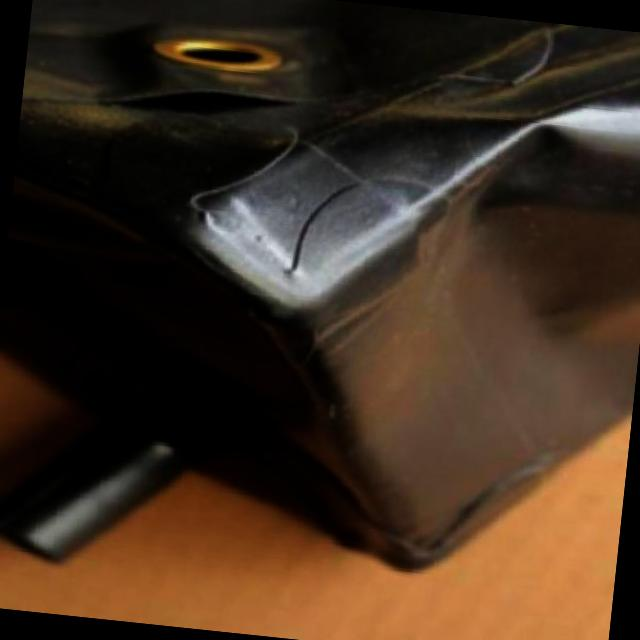crack: (278, 187, 367, 288)
